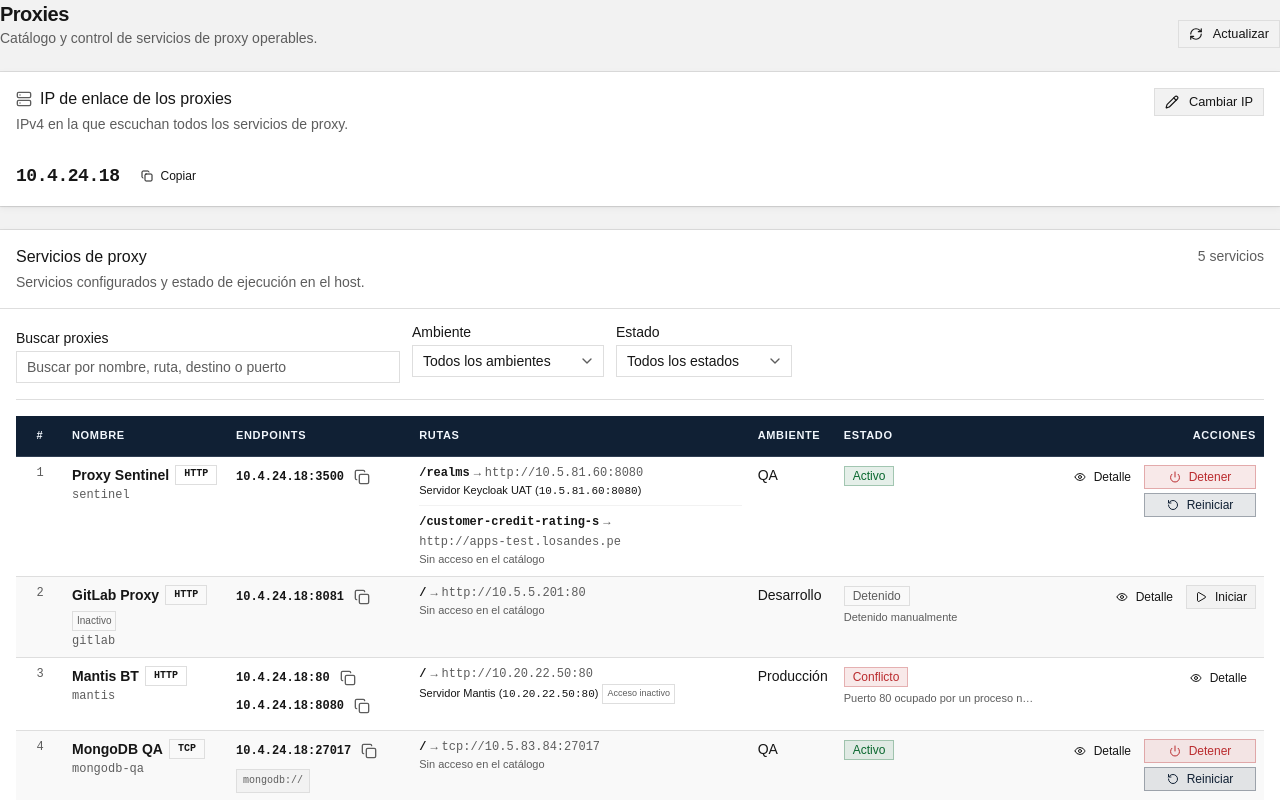
Test: ProxiesPage › filtra servicios por búsqueda en nombre, slug, puertos y rutas
Expected: the text "Proxy Sentinel" is shown, [72, 464, 169, 484]
In the search field with placeholder "Buscar por nombre, ruta, destino o puerto": [208, 367] box [16, 351, 400, 383], type "8081"
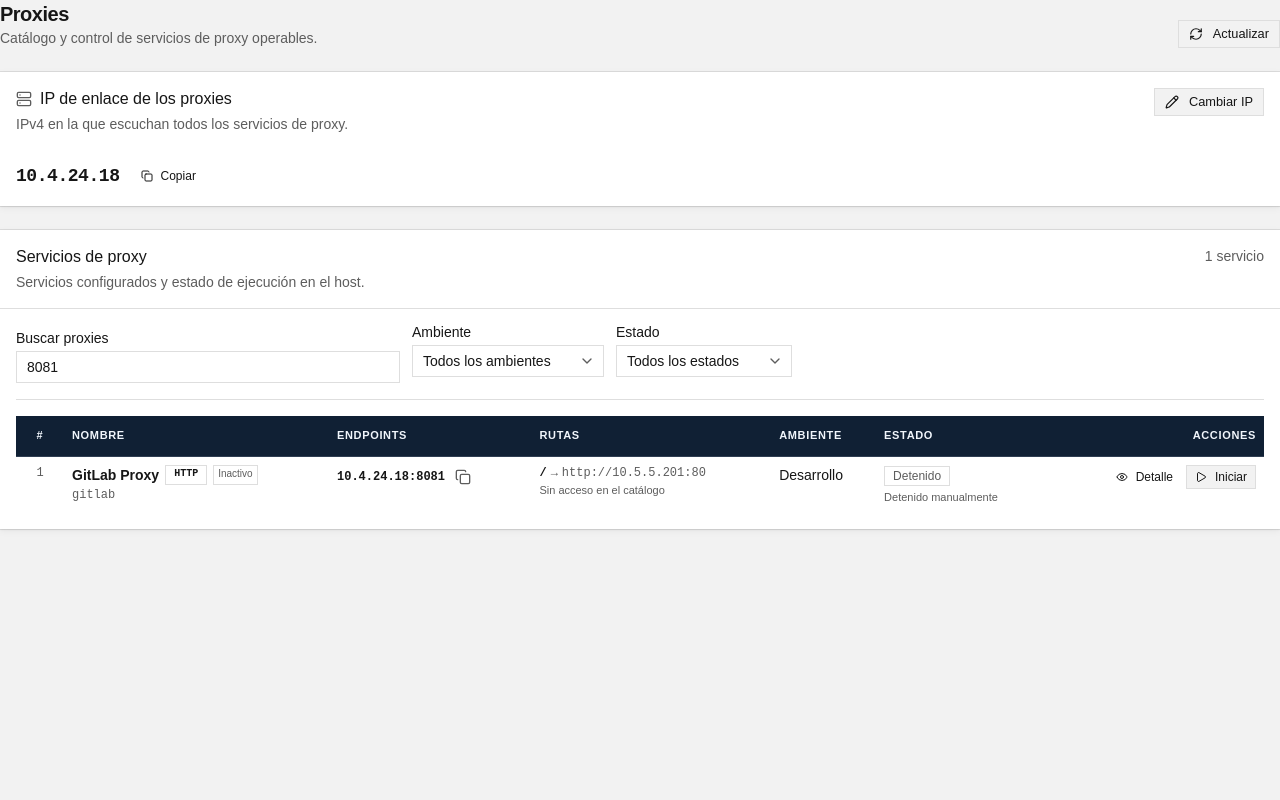
Expected: the text "GitLab Proxy" is shown, [72, 464, 159, 484]
Expected: the text "Proxy Sentinel" is gone
Replace the text in the search field with placeholder "Buscar por nombre, ruta, destino o puerto" with "keycloak": [208, 367] box [16, 351, 400, 383]
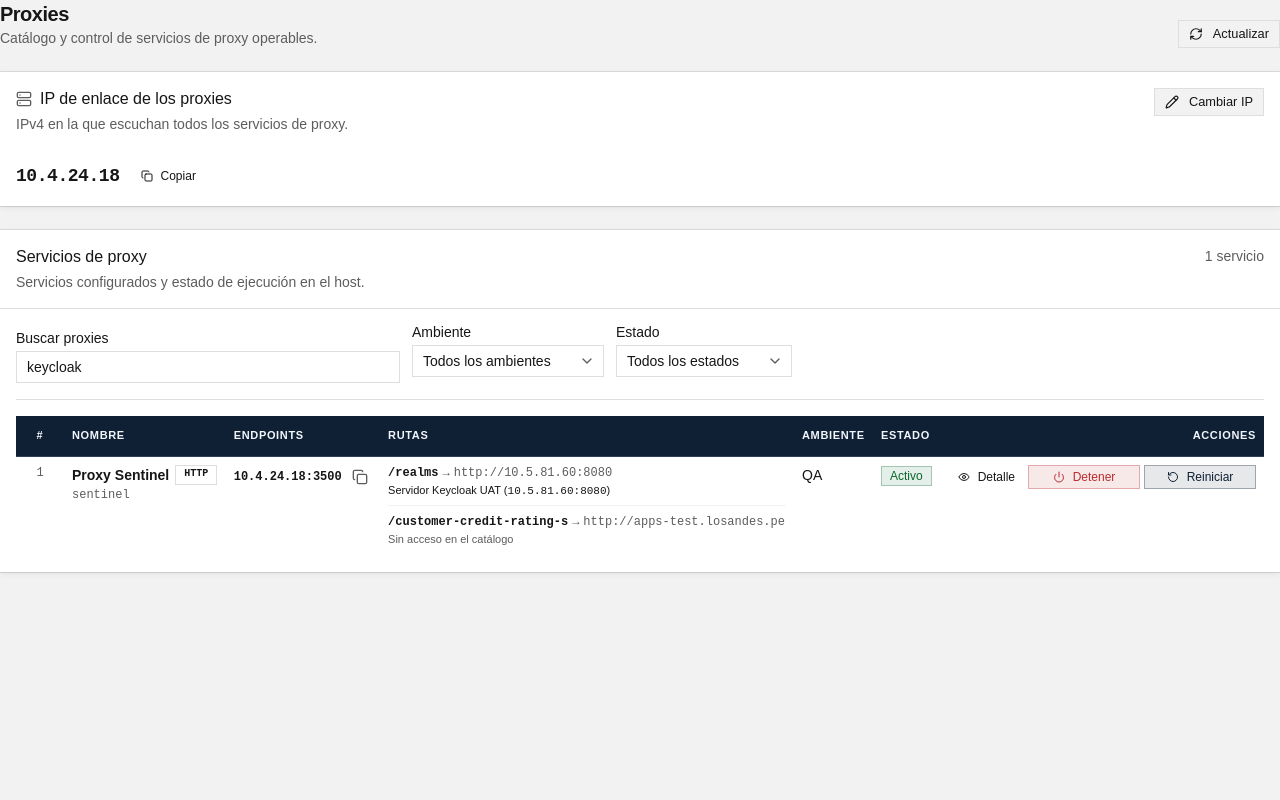
Expected: the text "Proxy Sentinel" is shown, [72, 464, 169, 484]
Expected: the text "GitLab Proxy" is gone
